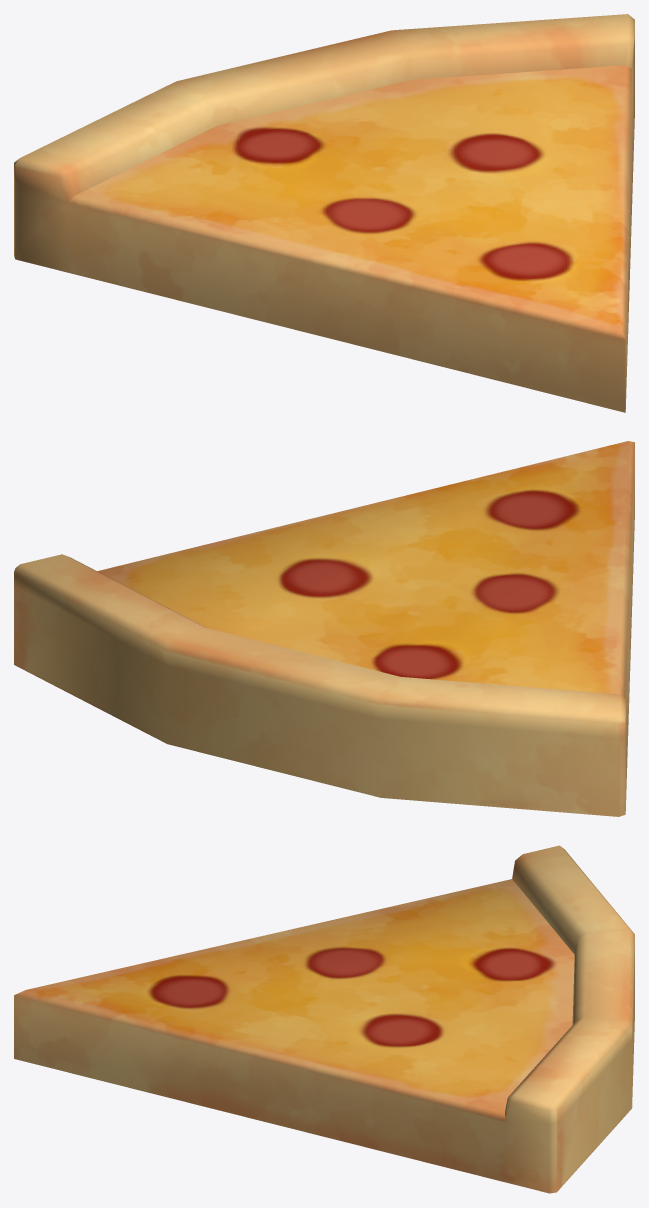
Rendered from PizzaSlice3.fbx.
3 views of the same model, one above another, from view 1: azimuth 30°, elevation 25°; view 2: azimuth 150°, elevation 25°; view 3: azimuth 270°, elevation 25° (orthographic). The views are drawn at different scales.
Parts seen in each view (by area): view 1: PizzaSlice3; view 2: PizzaSlice3; view 3: PizzaSlice3.
Boxes of the visible parts, x1,y1,x2,y2 form: PizzaSlice3: (14, 14, 634, 412); PizzaSlice3: (14, 441, 634, 816); PizzaSlice3: (14, 845, 634, 1193).
Bounding box in the file's own units: 99.05 × 15.28 × 98.7.
1 material, 1 textured.
